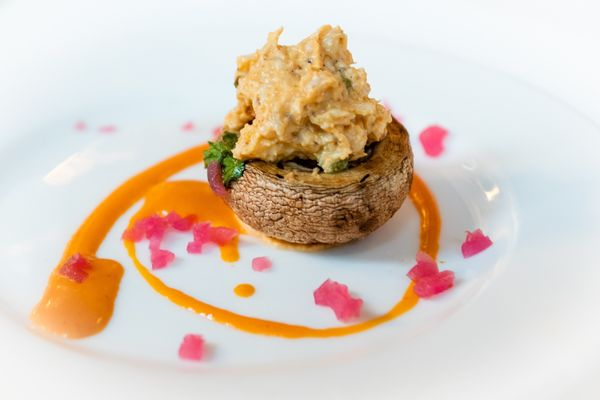soup: (204, 22, 414, 248)
